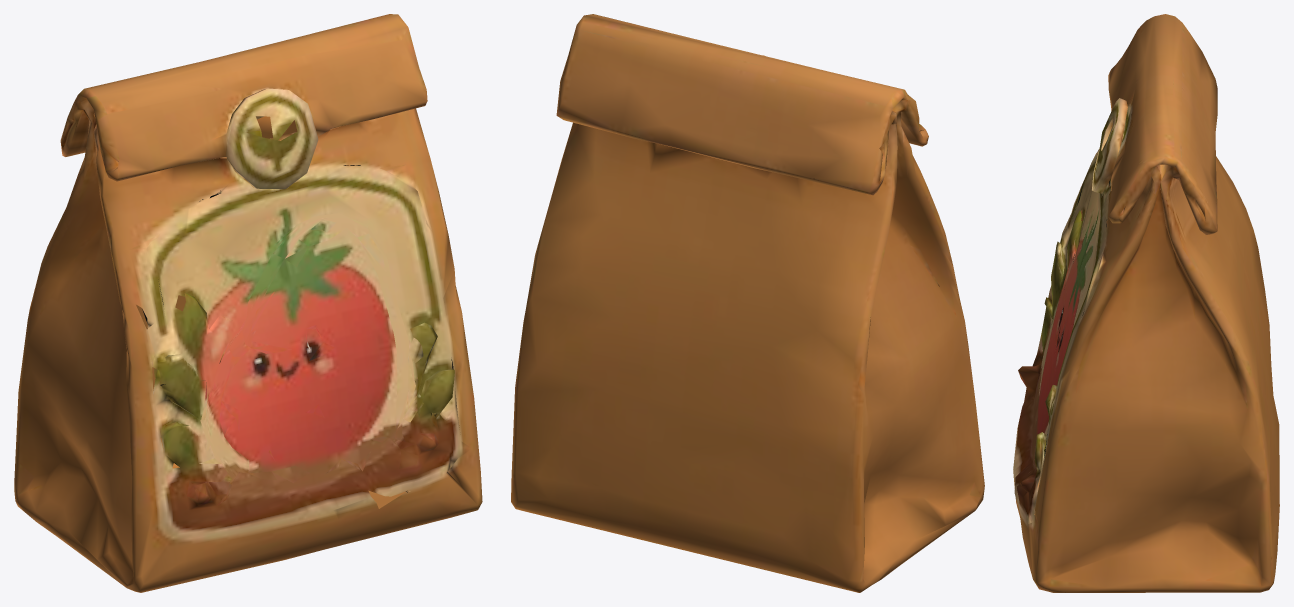
3 renders of one model, left to right at view 1: azimuth 30°, elevation 25°; view 2: azimuth 150°, elevation 25°; view 3: azimuth 270°, elevation 25°, orthographic. The views are drawn at different scales.
Visible parts, largest first — view 1: seed-tomato; view 2: seed-tomato; view 3: seed-tomato.
Part boxes in pixels (<box>): seed-tomato: <box>14,14,482,592</box>; seed-tomato: <box>511,14,984,592</box>; seed-tomato: <box>1013,14,1279,592</box>.
Bounding box in the file's own units: 0.1205 × 0.15 × 0.0841.
1 material, 1 textured.
